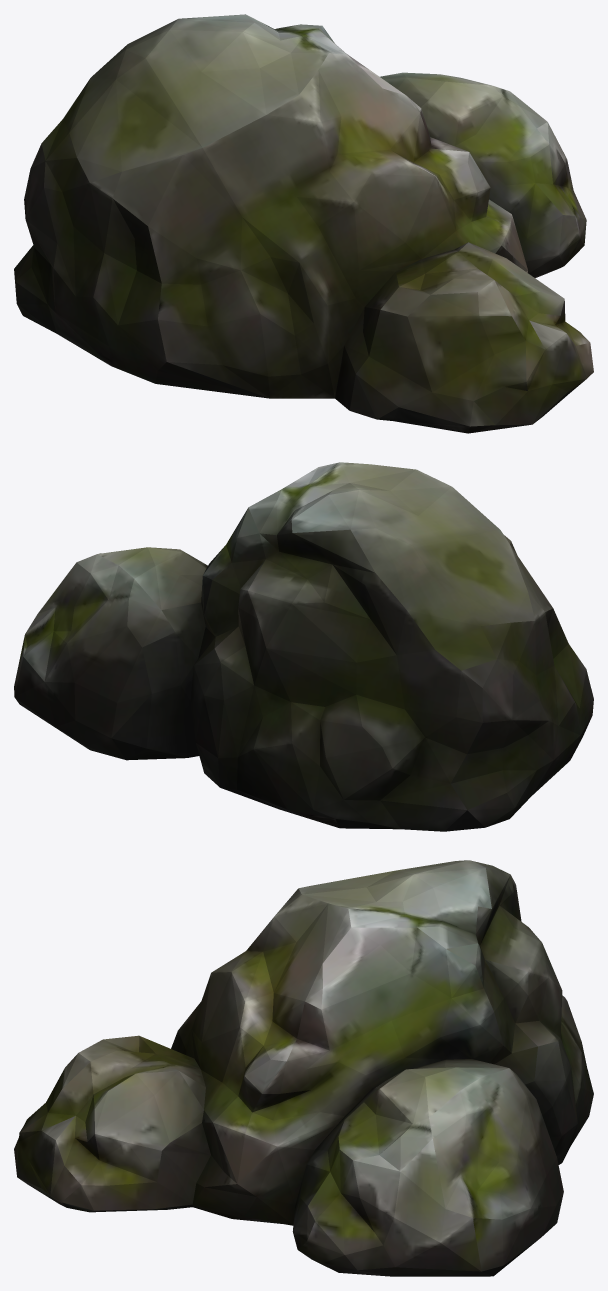
The model's file is rock-1.glb.
3 renders of one model, top to bottom at view 1: azimuth 30°, elevation 25°; view 2: azimuth 150°, elevation 25°; view 3: azimuth 270°, elevation 25°, orthographic.
Visible parts, largest first — view 1: geometry_0; view 2: geometry_0; view 3: geometry_0.
Part boxes in pixels (left/top/right/bottom): geometry_0: left=14, top=14, right=593, bottom=433; geometry_0: left=14, top=462, right=593, bottom=831; geometry_0: left=14, top=860, right=593, bottom=1276.
Size of the model in its own units: 1 by 0.4945 by 0.9962.
Materials: 1 (1 with a texture image).
